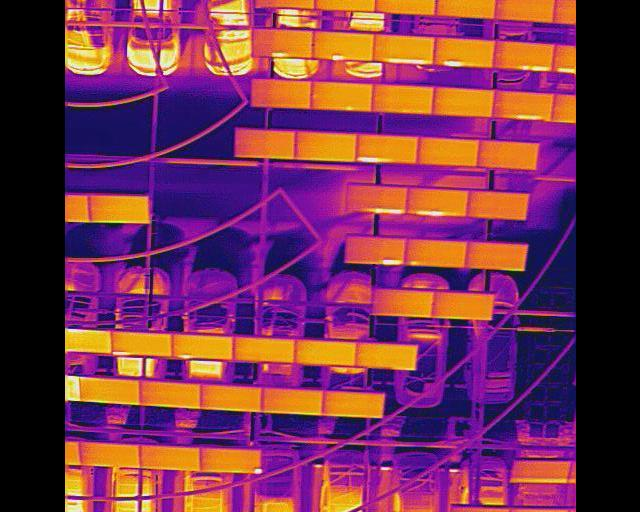Cell: (250, 28, 312, 58), (312, 34, 372, 64), (310, 84, 372, 112), (404, 241, 466, 267), (200, 448, 260, 474), (171, 335, 231, 361)
No-Anomaly: (416, 134, 477, 167), (232, 128, 294, 160), (432, 87, 492, 119), (294, 132, 356, 162), (475, 141, 537, 171), (465, 191, 528, 220), (249, 81, 311, 110), (323, 390, 384, 419), (139, 382, 202, 410), (371, 86, 432, 114), (355, 343, 416, 371), (294, 342, 357, 369), (368, 290, 433, 316), (80, 377, 138, 406), (430, 294, 492, 321), (90, 195, 148, 223), (139, 445, 199, 472), (465, 244, 525, 271), (232, 338, 294, 364), (508, 460, 572, 484), (79, 444, 139, 469), (201, 388, 263, 412), (261, 392, 323, 415), (494, 0, 554, 23), (434, 0, 496, 19), (64, 332, 110, 355), (375, 0, 436, 16), (314, 0, 375, 13), (253, 0, 313, 9), (447, 507, 510, 512)
Unclassified: (492, 91, 553, 124), (372, 35, 434, 67), (491, 41, 554, 72), (356, 134, 418, 165), (432, 39, 495, 68), (342, 237, 405, 266), (406, 188, 467, 217), (345, 187, 407, 214), (111, 333, 171, 358)
